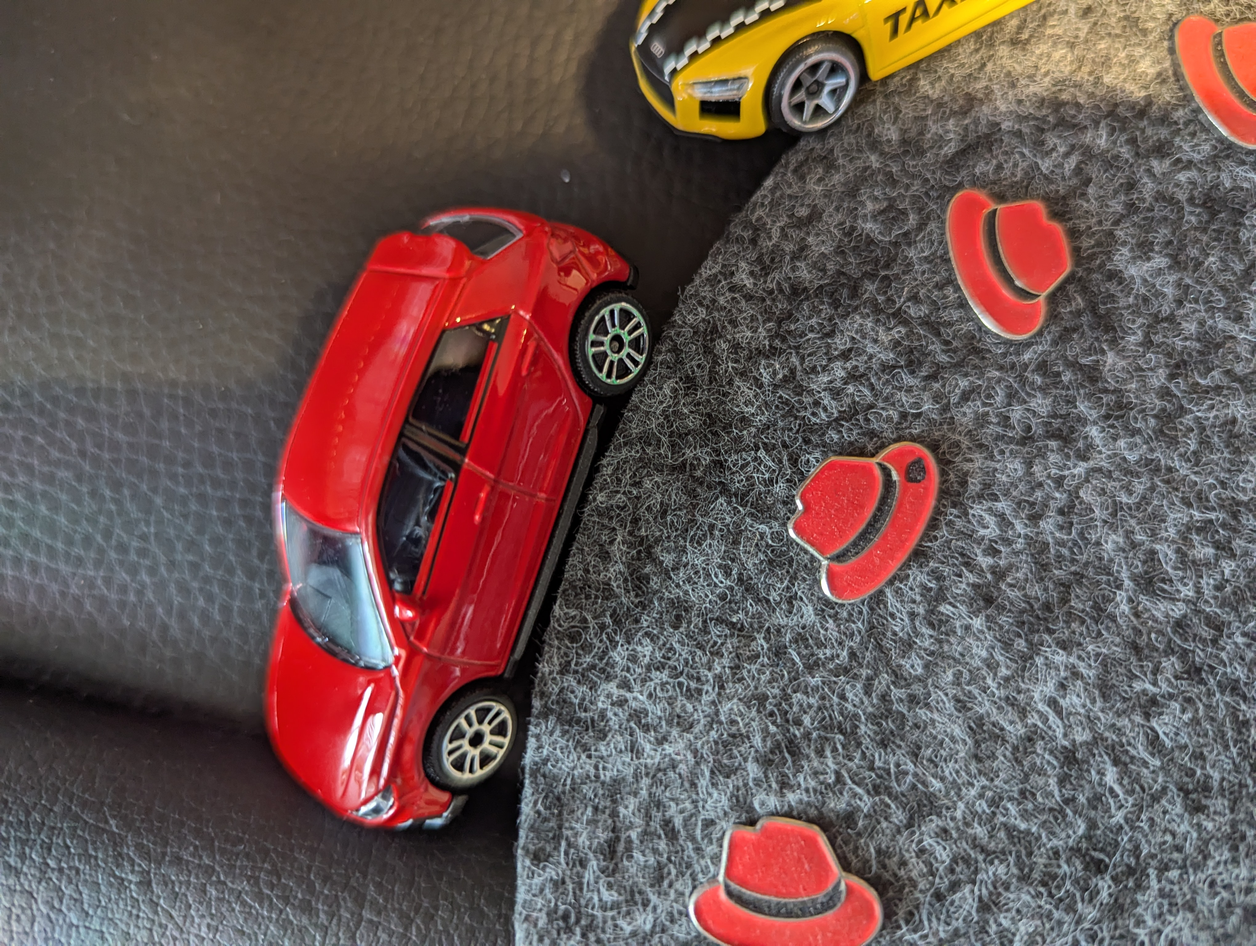Car: (229, 157, 680, 856), (621, 0, 1085, 150)
Red-Hat: (771, 420, 969, 629), (666, 787, 902, 946), (928, 167, 1083, 370), (1152, 2, 1256, 166)
Scratch: (890, 448, 941, 487)
